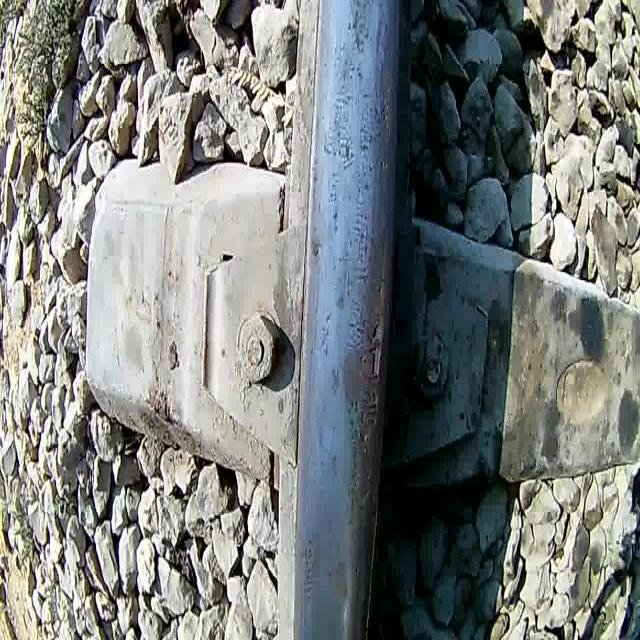Spallings: (364, 276, 386, 433)
Squats: (332, 204, 374, 347), (320, 51, 359, 173), (355, 86, 384, 196), (328, 342, 367, 418), (299, 516, 325, 608), (344, 0, 377, 54), (378, 34, 394, 142), (332, 546, 351, 614)
